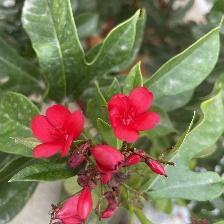jatropha: (106, 85, 165, 140), (31, 105, 86, 162)
